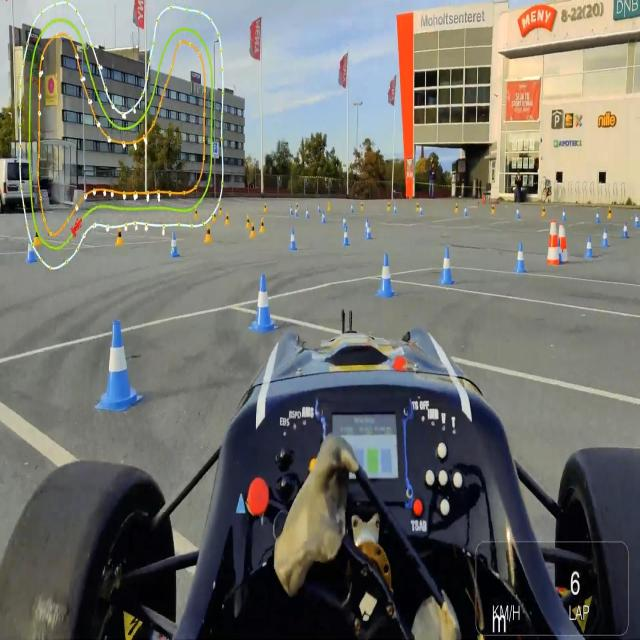blue_cone: (92, 319, 147, 414), (247, 273, 279, 335), (376, 251, 396, 300), (436, 244, 457, 288), (512, 240, 528, 274), (24, 236, 38, 265), (169, 230, 181, 259), (288, 225, 298, 252), (599, 226, 611, 248), (584, 236, 594, 259), (556, 238, 564, 266), (340, 226, 350, 247), (620, 220, 629, 240), (632, 212, 640, 231), (364, 223, 372, 240), (594, 208, 602, 223), (342, 214, 348, 232), (321, 211, 327, 225), (561, 208, 567, 222), (364, 217, 368, 234), (305, 207, 310, 220), (516, 207, 520, 220)
large_orange_cone: (546, 218, 560, 266), (557, 221, 570, 266)
yellow_cone: (114, 224, 125, 250), (203, 222, 214, 246), (257, 217, 266, 235), (34, 229, 42, 247), (248, 222, 256, 239), (606, 204, 613, 221), (223, 211, 230, 227), (245, 215, 251, 231), (194, 207, 199, 222), (212, 211, 218, 223), (219, 204, 223, 215)
